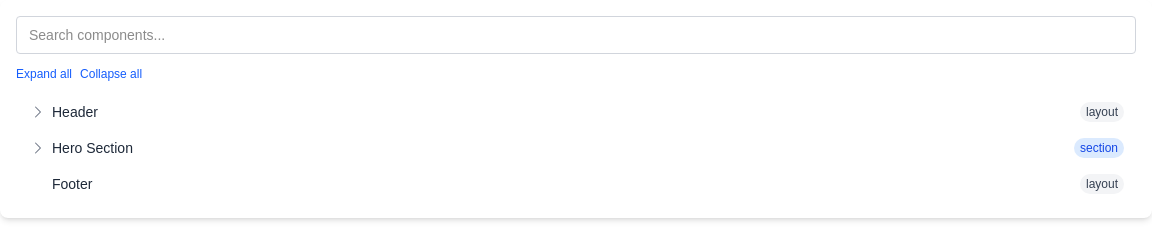
Test: ComponentTree › filters tree based on search input
Type "Hero" into the field with placeholder "Search components..." at (576, 35), box [16, 16, 1136, 54]
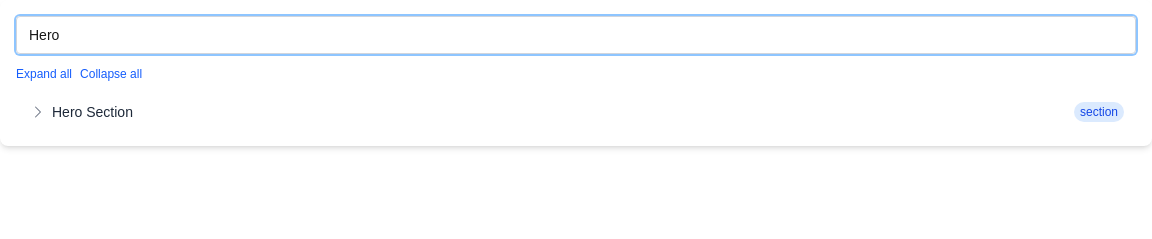
Expected: the button "Hero Section" is shown, [52, 102, 1074, 122]
Now the button "Header" is gone
Now the button "Footer" is gone
